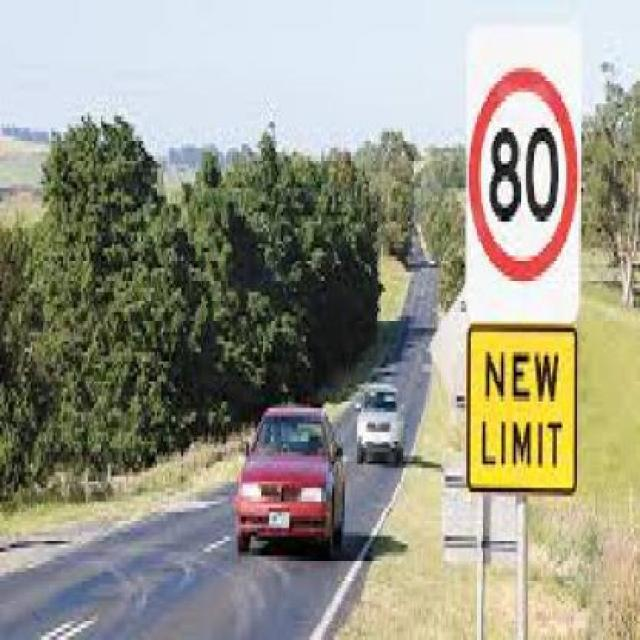forb_speed_over_80: (471, 68, 578, 288)
